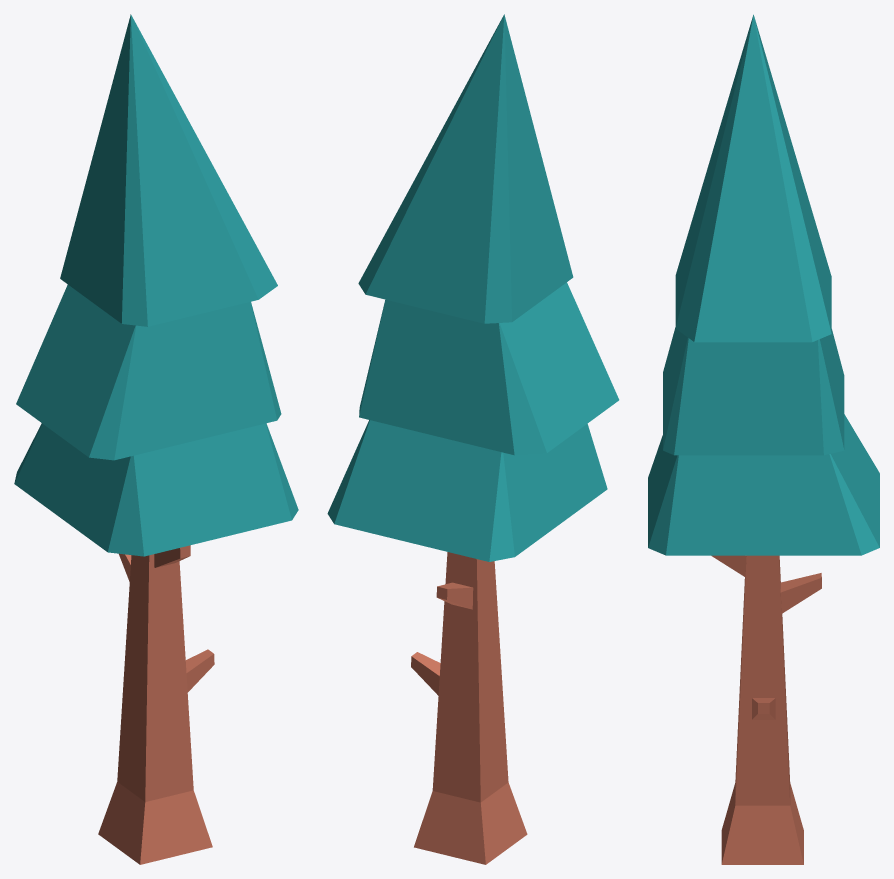
File: tree_pineTallA_detailed.obj
3 renders of one model, left to right at view 1: azimuth 30°, elevation 25°; view 2: azimuth 150°, elevation 25°; view 3: azimuth 270°, elevation 25°, orthographic. The views are drawn at different scales.
Parts seen in each view (by area): view 1: tree_pineTallA_detailed; view 2: tree_pineTallA_detailed; view 3: tree_pineTallA_detailed.
Boxes of the visible parts, left/top/right/bottom form: tree_pineTallA_detailed: left=14, top=14, right=298, bottom=864; tree_pineTallA_detailed: left=327, top=14, right=619, bottom=864; tree_pineTallA_detailed: left=648, top=14, right=879, bottom=864.
Size of the model in its own units: 0.3863 by 1.53 by 0.392.
